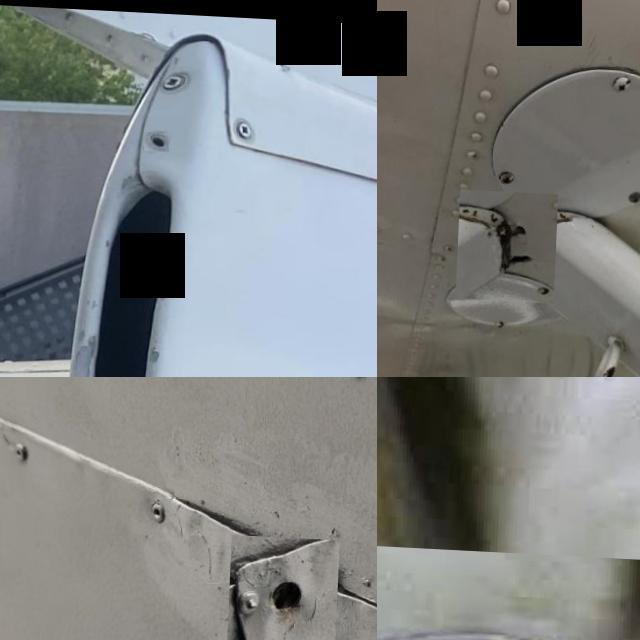Crack: (377, 544, 640, 640), (459, 187, 562, 300), (584, 342, 625, 377)
Missing_Fastener: (230, 531, 342, 640), (145, 128, 171, 148)
